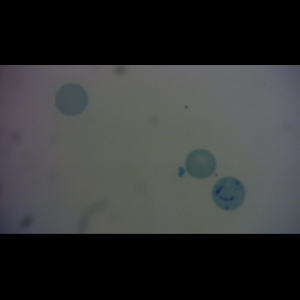aggregate reticulocyte: (210, 176, 247, 211)
erythrocyte: (53, 82, 90, 117), (184, 148, 217, 180)
